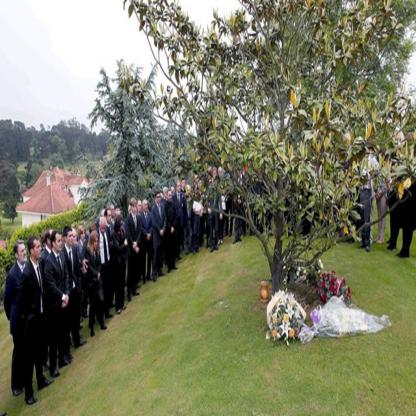face: (34, 241, 43, 258), (19, 246, 27, 262), (55, 235, 63, 251), (67, 232, 74, 245), (408, 131, 414, 144), (102, 222, 107, 235), (107, 211, 112, 223), (73, 232, 77, 245), (94, 238, 99, 248), (81, 230, 86, 240), (133, 202, 137, 212), (157, 195, 161, 204), (168, 193, 172, 202), (366, 154, 370, 163), (112, 207, 115, 217), (145, 202, 148, 212), (139, 203, 142, 212), (178, 183, 181, 191), (196, 176, 199, 184), (220, 170, 223, 178), (172, 189, 175, 197), (183, 181, 186, 188), (214, 172, 217, 179), (200, 182, 203, 189), (166, 191, 169, 197)
